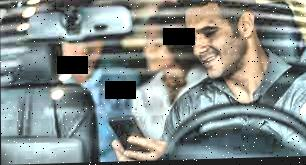seatbelt: (236, 60, 305, 130)
